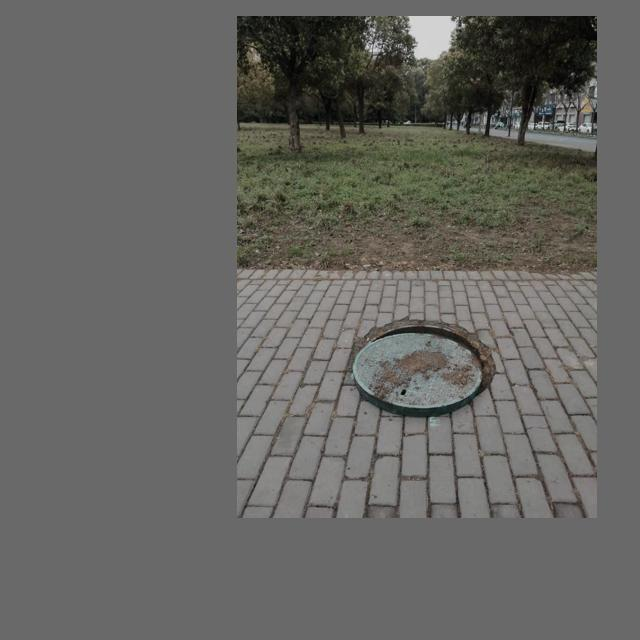uncovered: (352, 320, 489, 413)
